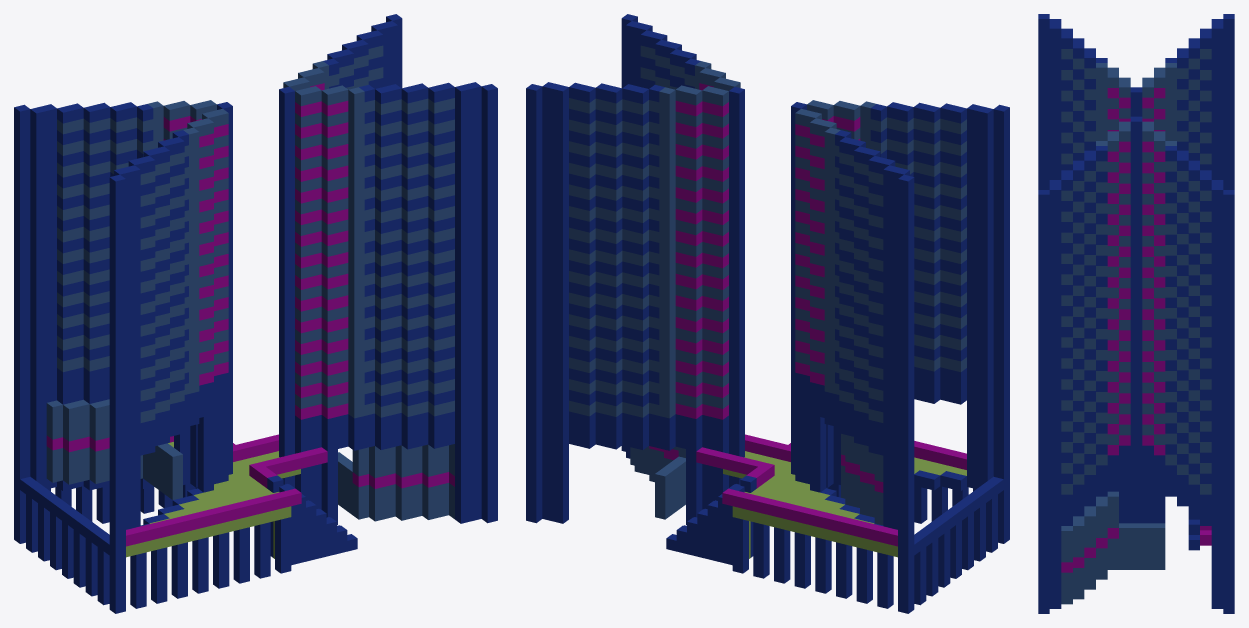
Rendered from skyscraper2-0.obj.
The picture shows the model from 3 angles, left to right: view 1: azimuth 30°, elevation 25°; view 2: azimuth 150°, elevation 25°; view 3: azimuth 270°, elevation 25°; orthographic projection. The views are drawn at different scales.
Size of the model in its own units: 7.4 by 8 by 3.4.
Materials: 1 (1 with a texture image).
